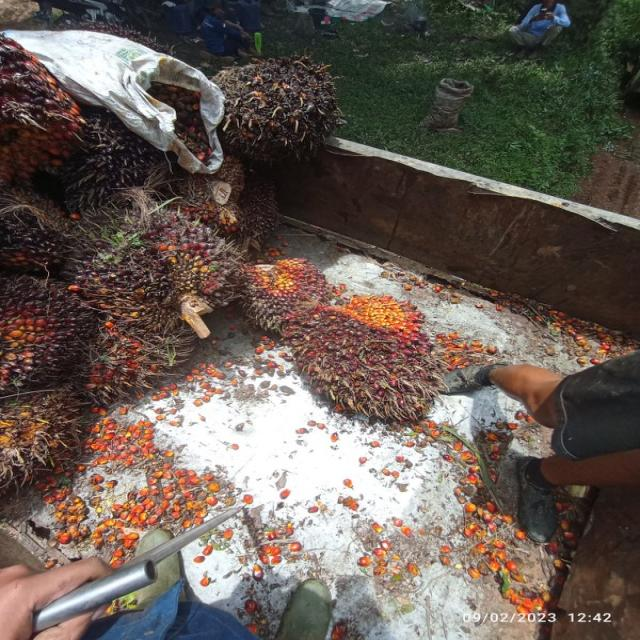fraksi 00: (62, 190, 245, 322), (233, 234, 333, 343)
fraksi 1: (287, 282, 444, 419)
fraksi 4: (72, 308, 195, 411)
